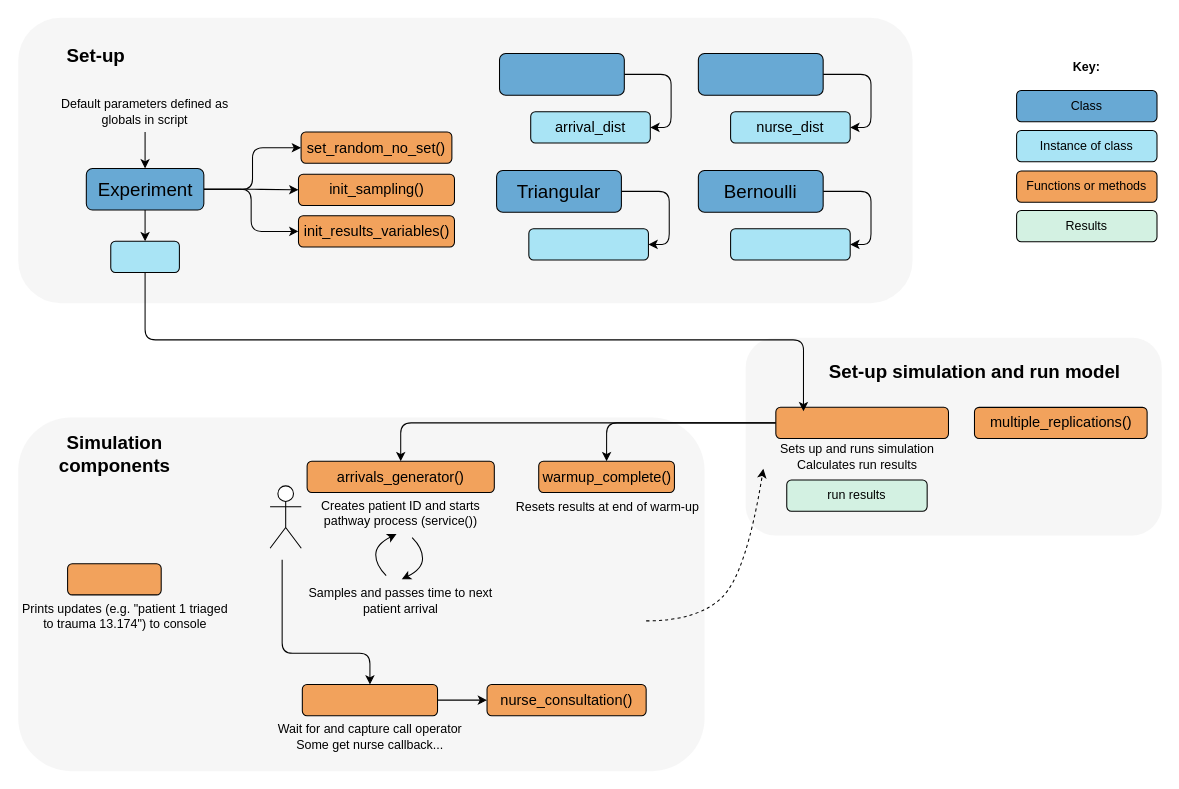
The diagram is 1179 pixels wide and 789 high, and some of its shapes have lost their labels. Here are the shapes that lost their labels. From the top down, the centre of each, then its label:
At (x=561, y=74): "Exponential".
At (x=760, y=74): "Uniform".
At (x=144, y=256): "scenario".
At (x=588, y=244): "call_dist".
At (x=790, y=244): "callback_dist".
At (x=861, y=422): "single_run()".
At (x=114, y=579): "trace()".
At (x=369, y=699): "service()".
